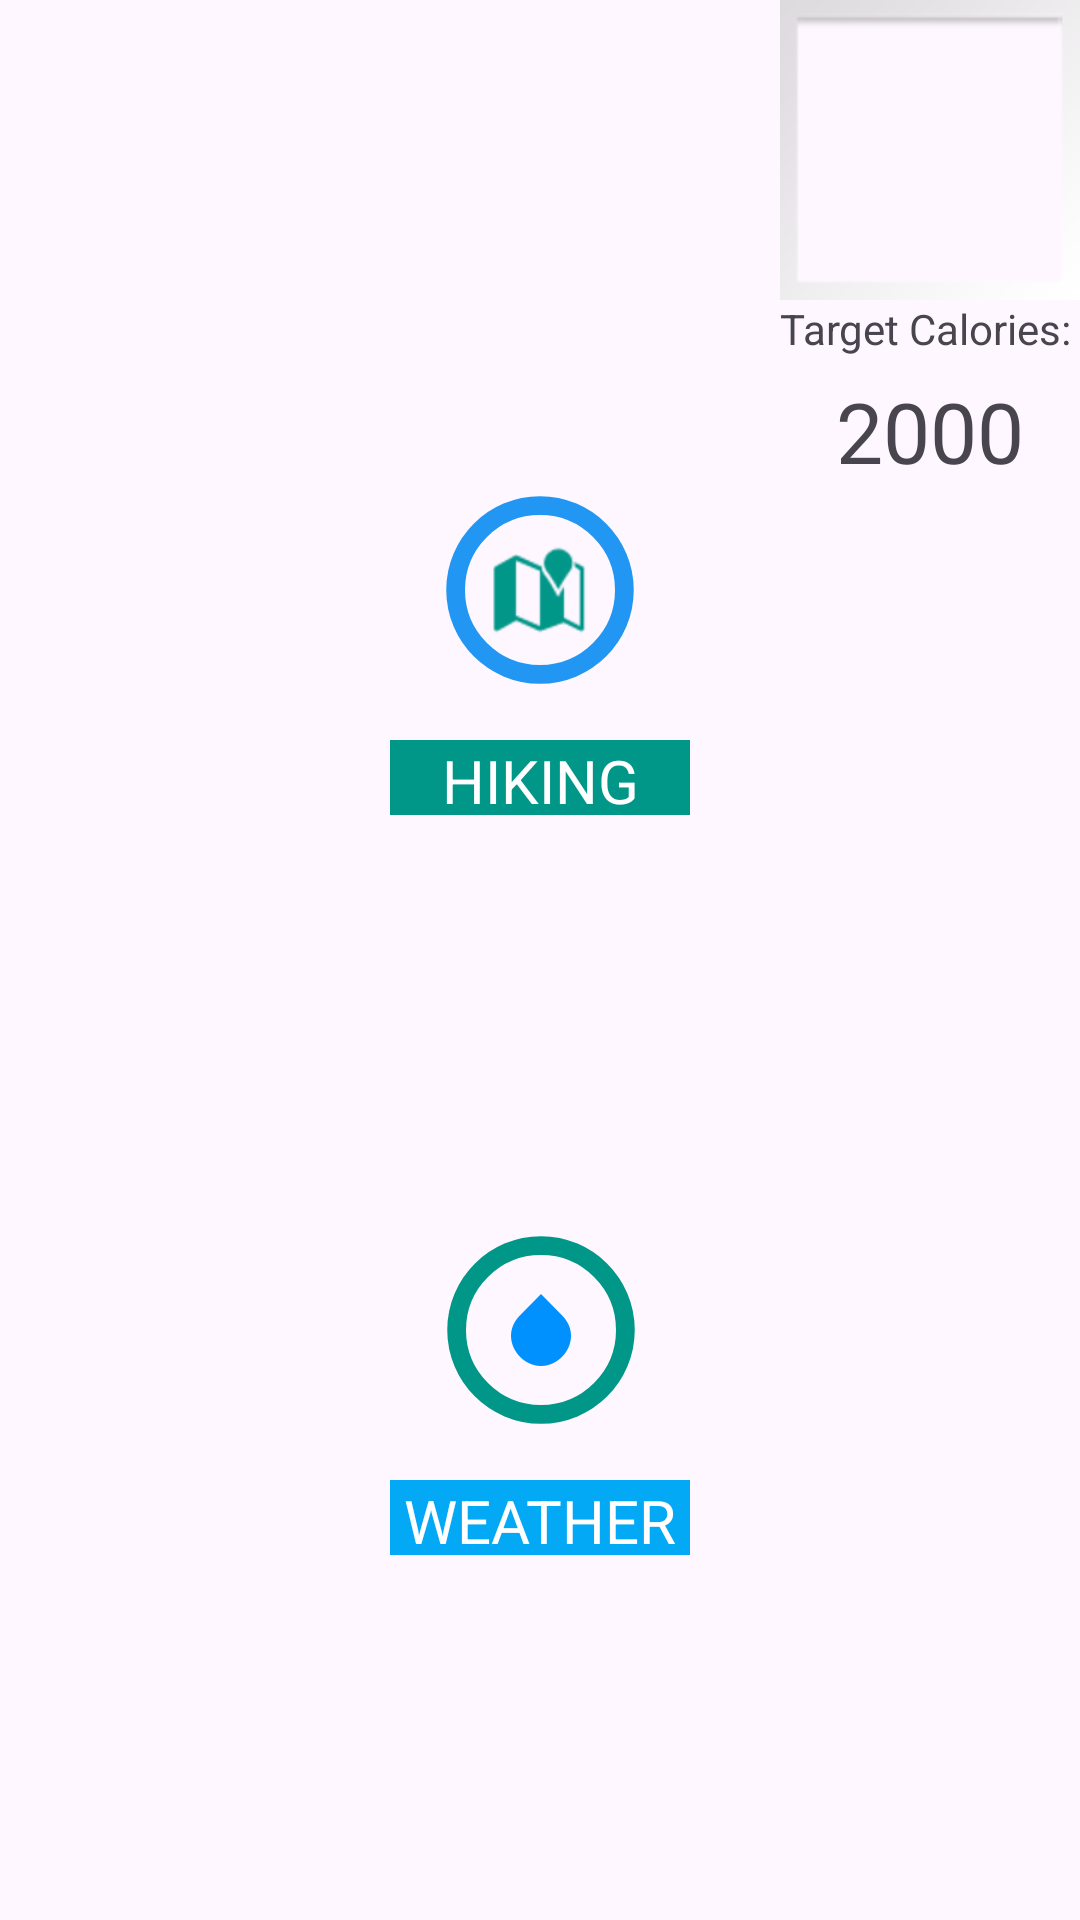

Icon bounding boxes for this 1080 × 1920 phone screenshot, format [x1, y1, x2, y2]:
map: [446, 496, 634, 684]
